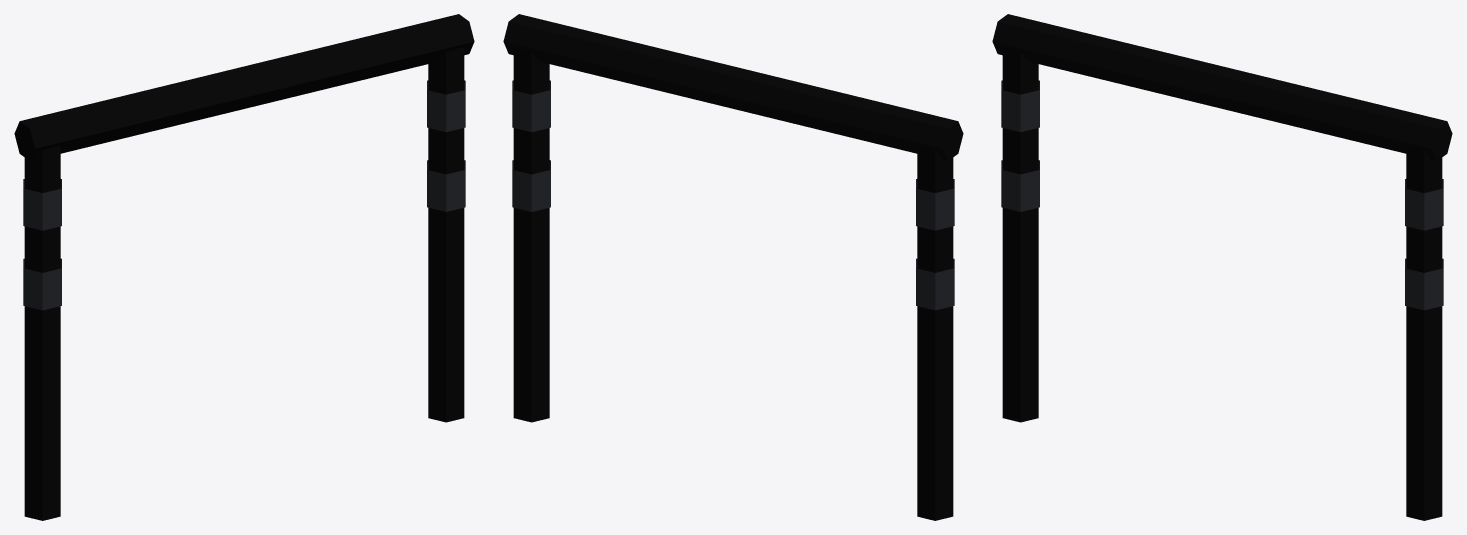
Rendered from CarStop.fbx.
3 renders of one model, left to right at view 1: azimuth 30°, elevation 25°; view 2: azimuth 150°, elevation 25°; view 3: azimuth 330°, elevation 25°, orthographic.
Visible parts, largest first — view 1: Pipe, Bands; view 2: Pipe, Bands; view 3: Pipe, Bands.
Part boxes in pixels (x1=…): Pipe: x1=14, y1=14, x2=474, y2=520; Bands: x1=23, y1=80, x2=465, y2=310; Pipe: x1=503, y1=14, x2=963, y2=520; Bands: x1=512, y1=80, x2=954, y2=310; Pipe: x1=992, y1=14, x2=1452, y2=520; Bands: x1=1001, y1=80, x2=1443, y2=310.
Size of the model in its own units: 0.986 by 0.8346 by 0.08.
